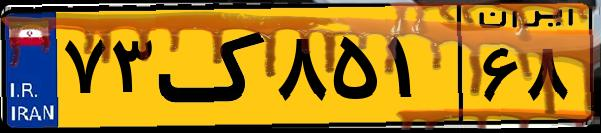1: (385, 28, 445, 110)
3: (110, 28, 158, 98)
5: (330, 28, 385, 110)
6: (475, 38, 525, 113)
7: (57, 26, 110, 100)
8: (270, 28, 330, 110), (525, 38, 570, 115)
ک: (158, 12, 270, 120)
